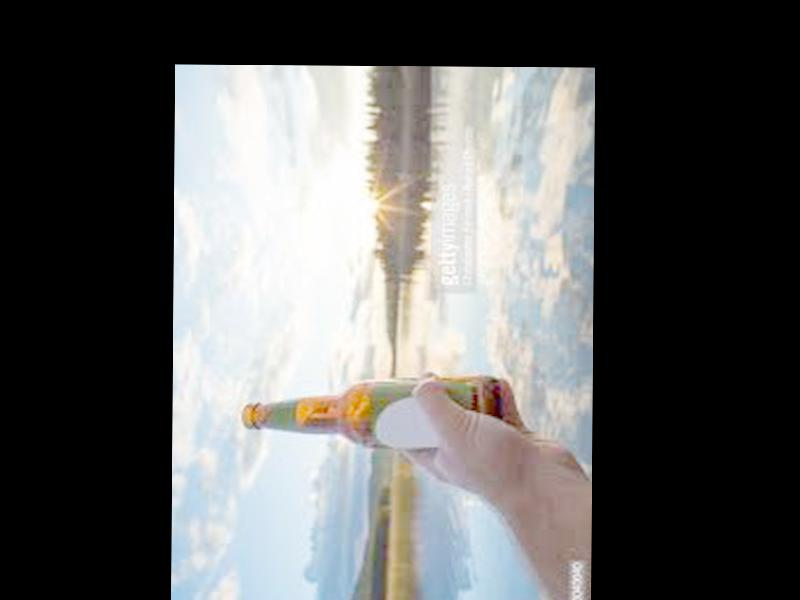Beer: (241, 372, 499, 451)
